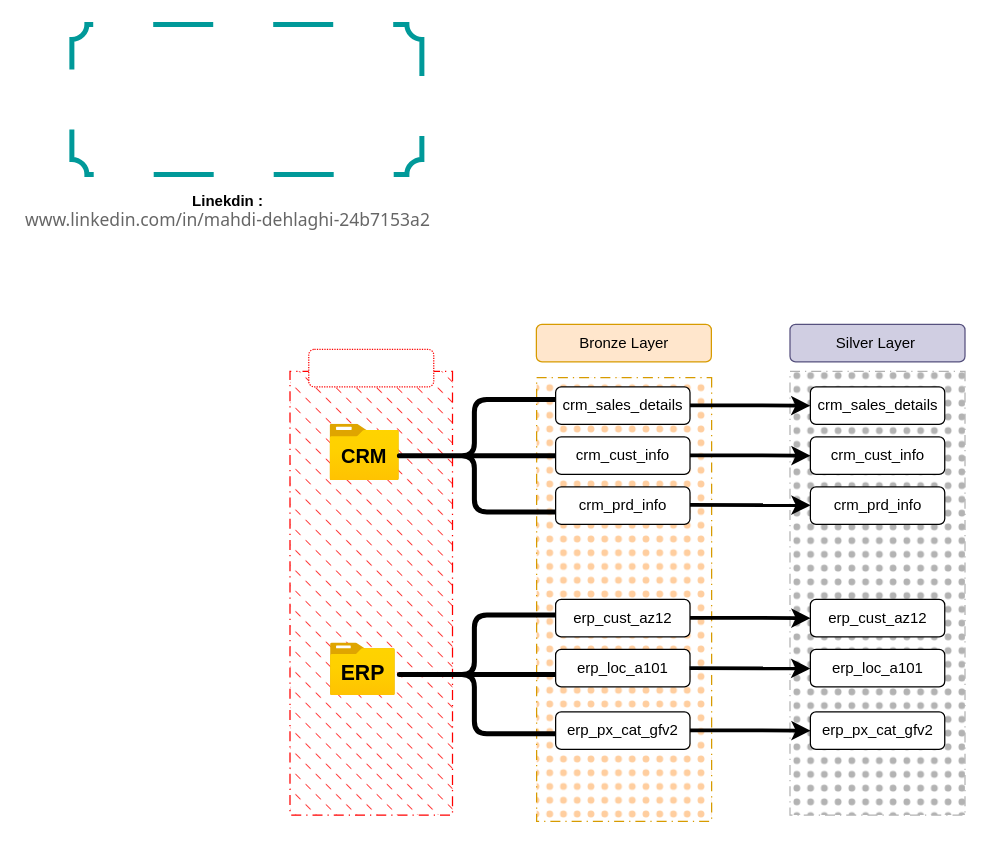
Some shapes in this 988 by 843 pixel diagram are drawn without their labels. Here are the shapes that lost their labels. From the top down, the centre of each, then its label:
(x=246, y=98): DATA FLOW DIAGRAM BY MAHDI DEHLAGHI (DATA ANALYST )
(x=371, y=367): Sources
